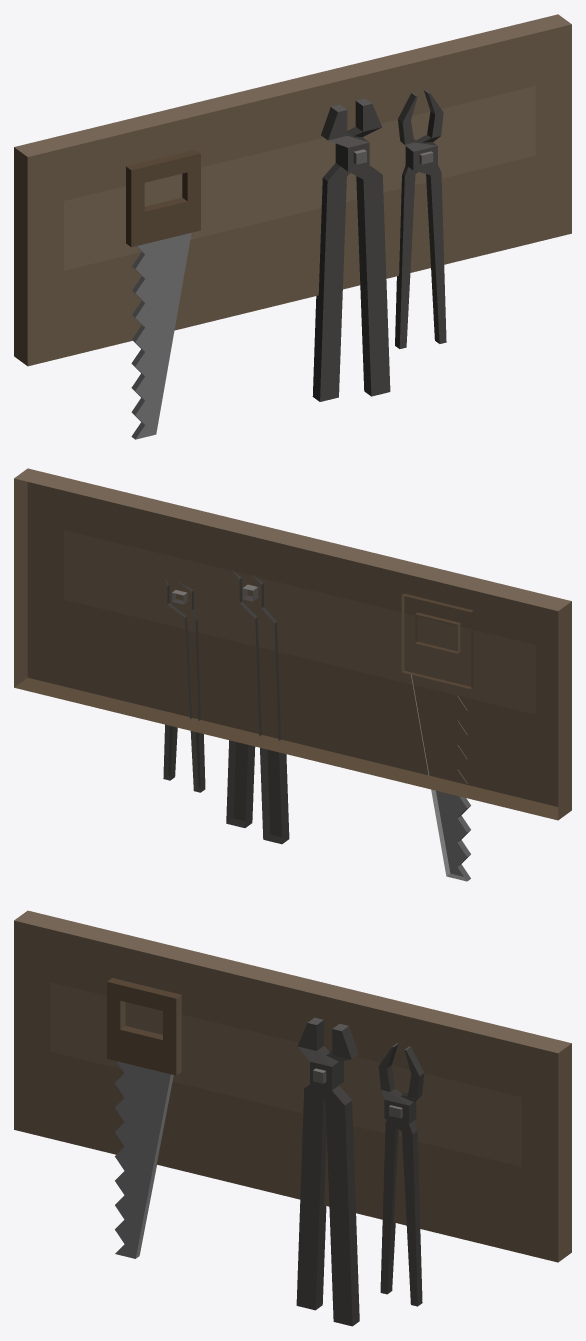
Rendered from SD_Prop_Toolrack_02.fbx.
3 views of the same model, one above another, from view 1: azimuth 30°, elevation 25°; view 2: azimuth 150°, elevation 25°; view 3: azimuth 330°, elevation 25° (orthographic).
Visible parts, largest first — view 1: SD_Prop_Toolrack_02; view 2: SD_Prop_Toolrack_02; view 3: SD_Prop_Toolrack_02.
Part boxes in pixels (box(x1,y1,x2,y2)): SD_Prop_Toolrack_02: box(14, 14, 571, 439); SD_Prop_Toolrack_02: box(14, 468, 571, 881); SD_Prop_Toolrack_02: box(14, 910, 571, 1326).
Bounding box in the file's own units: 3.48 × 1.9 × 0.317.
